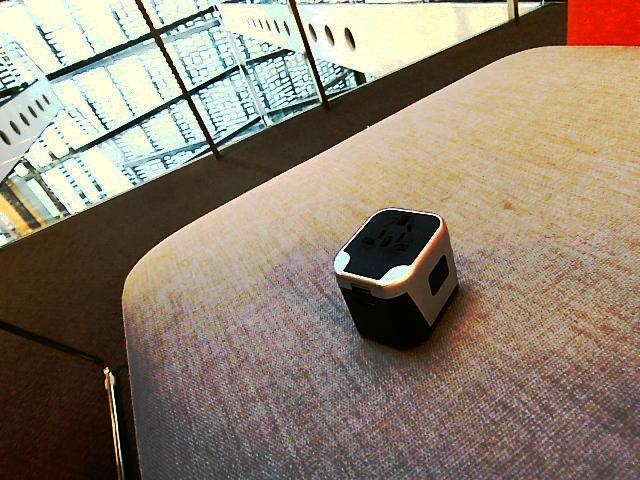adapter: (332, 206, 460, 350)
